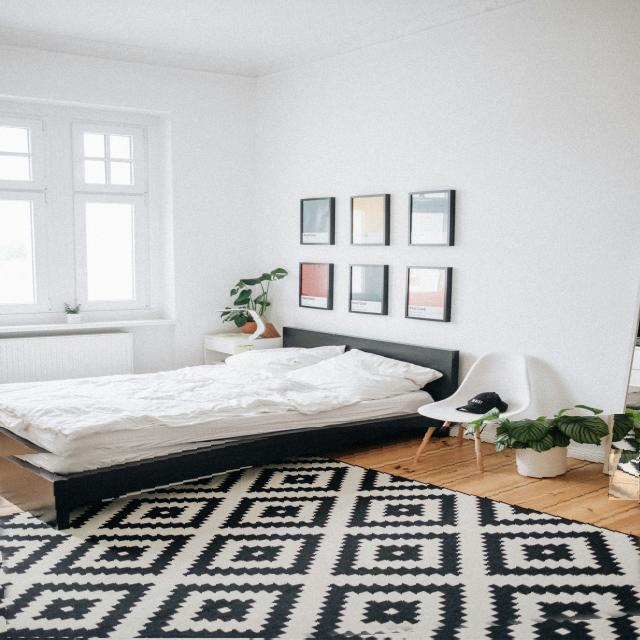floor: (0, 427, 640, 639), (610, 455, 640, 500)
